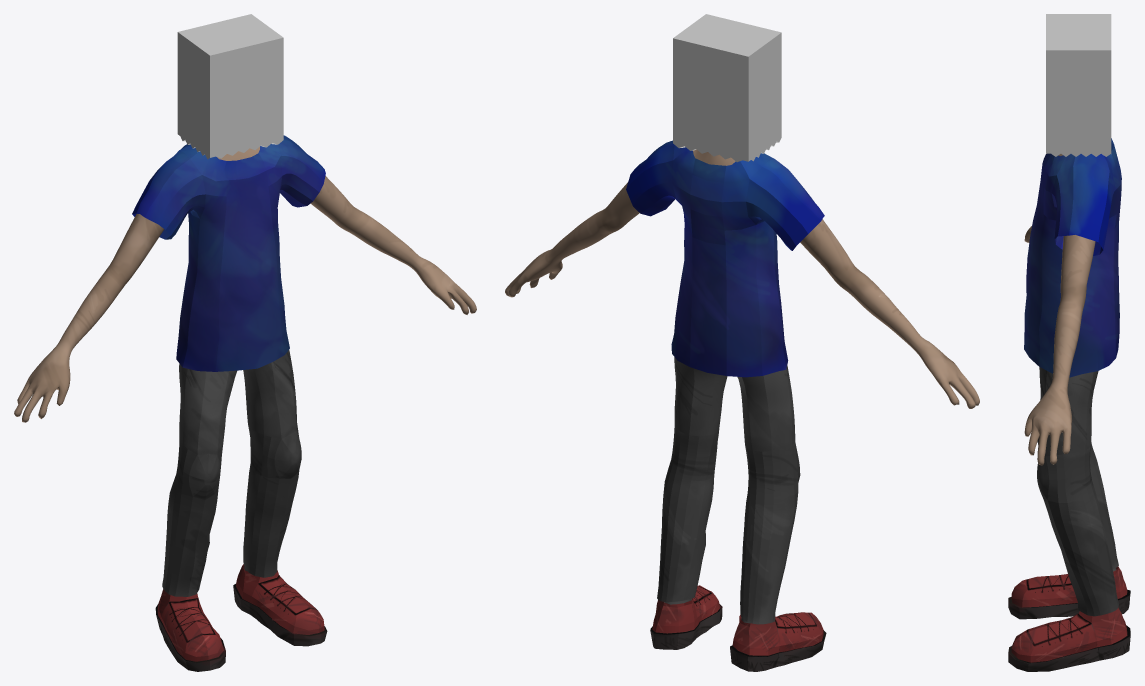
File: Gami_Mesh.fbx
3 views of the same model, side by side, from view 1: azimuth 30°, elevation 25°; view 2: azimuth 150°, elevation 25°; view 3: azimuth 270°, elevation 25° (orthographic). The views are drawn at different scales.
Parts seen in each view (by area): view 1: polySurface8, polySurface6, pCube2, polySurface1, bagman:polySurface10; view 2: polySurface8, polySurface6, pCube2, polySurface1, bagman:polySurface10; view 3: polySurface8, polySurface6, pCube2, bagman:polySurface10, polySurface1.
Boxes of the visible parts, left/top/right/bottom form: polySurface8: left=132, top=135, right=325, bottom=371; polySurface6: left=162, top=350, right=301, bottom=596; pCube2: left=177, top=14, right=283, bottom=159; polySurface1: left=14, top=147, right=476, bottom=570; bagman:polySurface10: left=155, top=564, right=327, bottom=671; polySurface8: left=626, top=140, right=824, bottom=377; polySurface6: left=657, top=357, right=800, bottom=624; pCube2: left=673, top=14, right=781, bottom=162; polySurface1: left=505, top=149, right=979, bottom=623; bagman:polySurface10: left=650, top=585, right=826, bottom=671; polySurface8: left=1024, top=138, right=1121, bottom=377; polySurface6: left=1037, top=367, right=1118, bottom=616; pCube2: left=1046, top=14, right=1111, bottom=156; bagman:polySurface10: left=1008, top=566, right=1130, bottom=671; polySurface1: left=1024, top=154, right=1116, bottom=571.
Size of the model in its own units: 4.18 by 5.24 by 0.9584.
